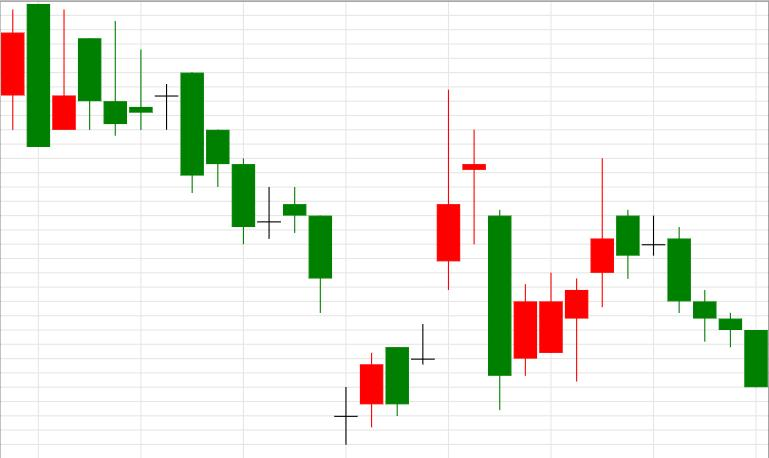evening_star_fall: (334, 90, 511, 444)
